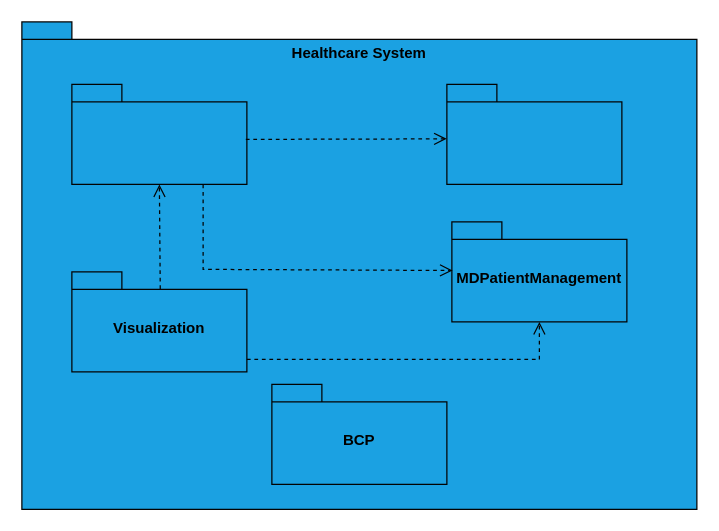
The diagram is 719 pixels wide and 531 high, and some of its shapes have lost their labels. Here are the shapes that lost their labels. From the top down, the centre of each, then its label:
At [159,133]: "MDBackoffice".
At [534,133]: "Planning".
